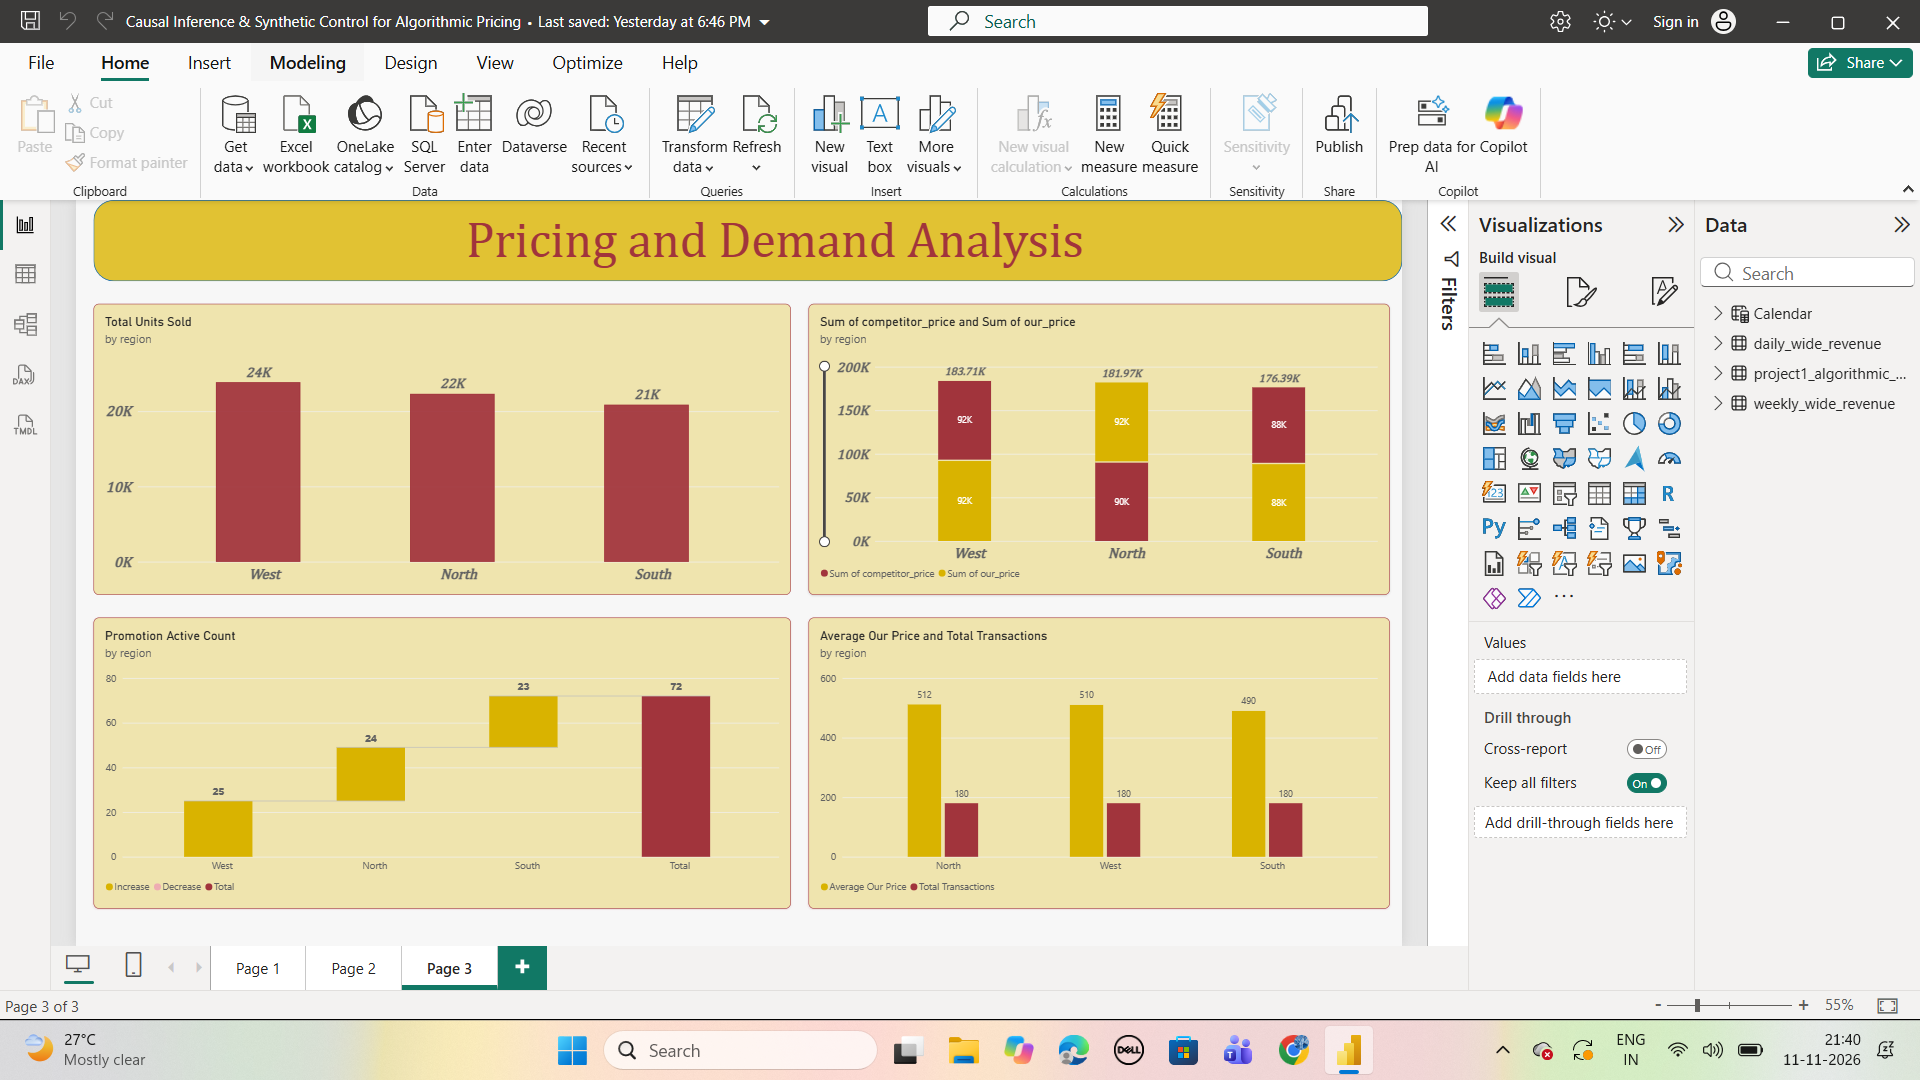

The page's visual inventory and layout, read from the dashboard file:
{"tool":"powerbi","page":{"name":"Page 3","canvas":[1920,1080],"ordinal":2},"visuals":[{"type":"waterfallChart","fields":{"Category":["project1_algorithmic_pricing_synthetic_dataset.region"],"Y":["Calendar.Promotion Active Count"]},"box":[25.3,604.4,1009.8,421.7],"z":0},{"type":"lineClusteredColumnComboChart","fields":{"Category":["project1_algorithmic_pricing_synthetic_dataset.region"],"Y":["daily_wide_revenue.Average Our Price","weekly_wide_revenue.Total Transactions"]},"box":[1060.5,604.4,841.5,421.7],"z":1000},{"type":"ribbonChart","fields":{"Category":["project1_algorithmic_pricing_synthetic_dataset.region"],"Y":["Sum(project1_algorithmic_pricing_synthetic_dataset.competitor_price)","Sum(project1_algorithmic_pricing_synthetic_dataset.our_price)"]},"box":[1060.5,150.2,841.5,421.7],"z":2000},{"type":"shape","box":[25.3,9,1894.7,117.6],"z":3000},{"type":"textbox","box":[564.6,19.9,939.2,97.7],"z":4000},{"type":"lineClusteredColumnComboChart","fields":{"Category":["project1_algorithmic_pricing_synthetic_dataset.region"],"Y":["weekly_wide_revenue.Total Units Sold"]},"box":[25.3,150.2,1009.8,421.7],"z":5000}]}

Visuals, with their boxes on the page's 1920x1080 design canvas (x1, y1, x2, y2). These are canvas units, not pixel positions in the 1920x1080 screenshot, which may show the page scaled, cropped or inside an application window:
waterfallChart - project1_algorithmic_pricing_synthetic_dataset.region x Calendar.Promotion Active Count: 25,604,1035,1026
lineClusteredColumnComboChart - project1_algorithmic_pricing_synthetic_dataset.region x daily_wide_revenue.Average Our Price: 1060,604,1902,1026
ribbonChart - project1_algorithmic_pricing_synthetic_dataset.region x Sum(project1_algorithmic_pricing_synthetic_dataset.competitor_price): 1060,150,1902,572
shape: 25,9,1920,127
textbox: 565,20,1504,118
lineClusteredColumnComboChart - project1_algorithmic_pricing_synthetic_dataset.region x weekly_wide_revenue.Total Units Sold: 25,150,1035,572
